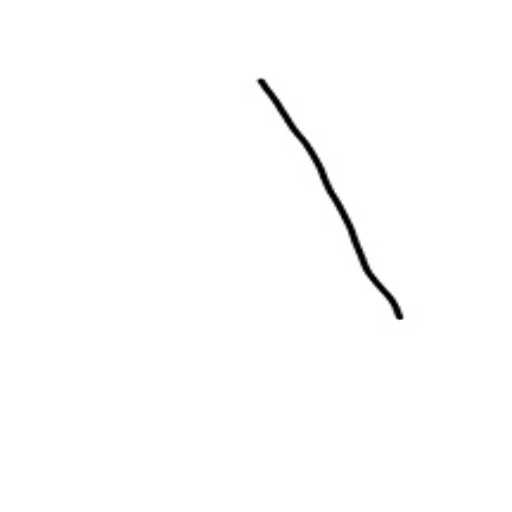line: (253, 76, 407, 326)
